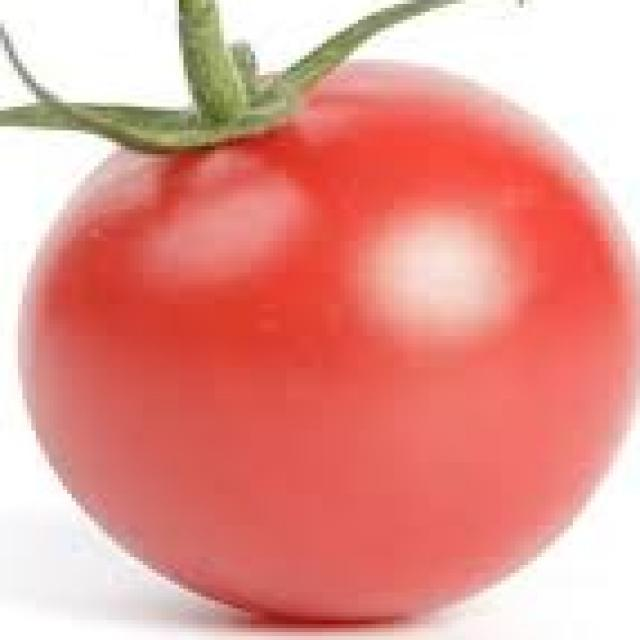Healthy: (22, 37, 639, 640)
